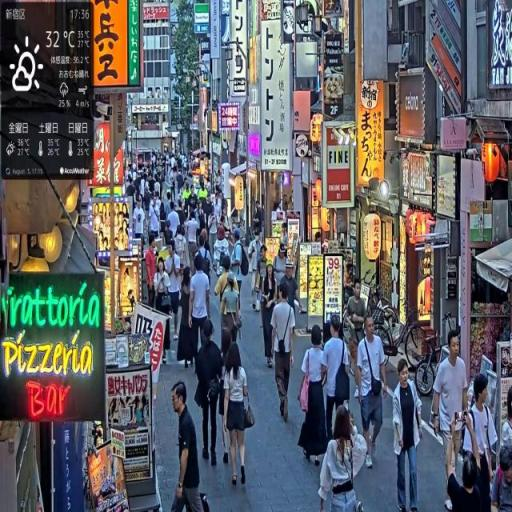person: (432, 331, 468, 506), (319, 402, 370, 512), (357, 312, 390, 473), (171, 379, 210, 512), (222, 338, 256, 490), (391, 359, 424, 512), (464, 374, 499, 512), (195, 320, 226, 469), (298, 325, 329, 466), (321, 315, 350, 446), (270, 283, 297, 421), (190, 256, 212, 364), (260, 260, 280, 370), (176, 268, 197, 372), (168, 243, 184, 349), (145, 238, 159, 311)
